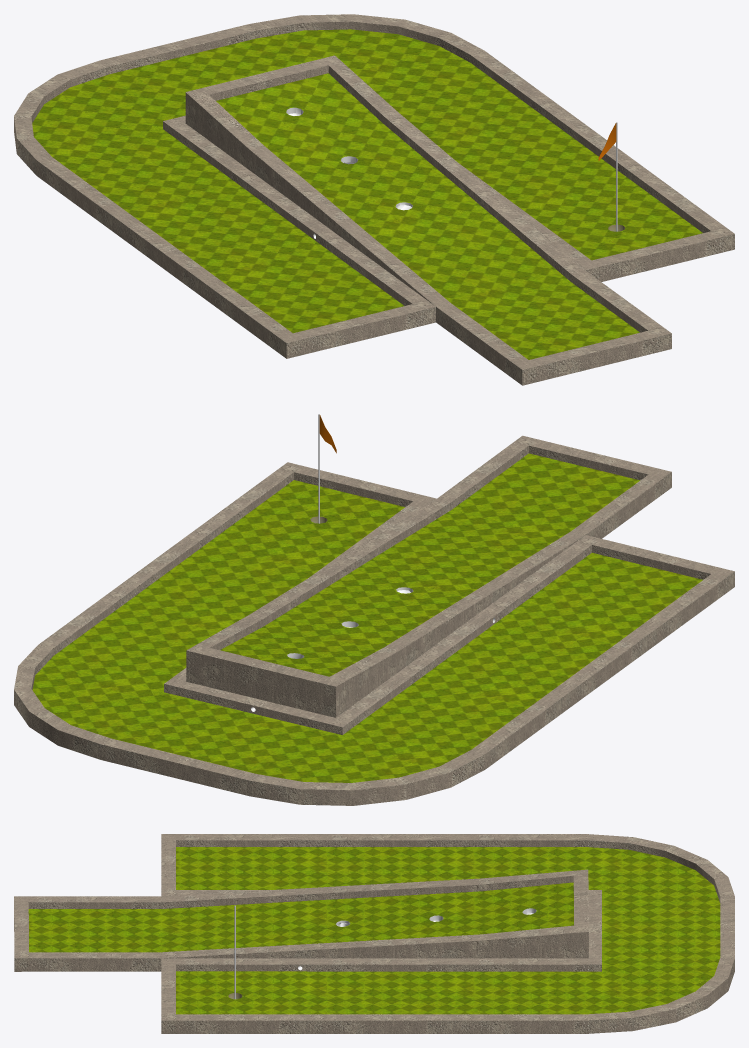
The model's file is course4_hole18.fbx.
The picture shows the model from 3 angles, top to bottom: view 1: azimuth 30°, elevation 25°; view 2: azimuth 150°, elevation 25°; view 3: azimuth 270°, elevation 25°; orthographic projection. The views are drawn at different scales.
Parts seen in each view (by area): view 1: course4_hole18_ground, course4_hole18_walls; view 2: course4_hole18_ground, course4_hole18_walls; view 3: course4_hole18_ground, course4_hole18_walls.
Part boxes in pixels (left/top/right/bottom): course4_hole18_ground: left=32, top=29, right=702, bottom=359; course4_hole18_walls: left=14, top=14, right=734, bottom=385; course4_hole18_ground: left=32, top=453, right=702, bottom=782; course4_hole18_walls: left=14, top=435, right=734, bottom=805; course4_hole18_ground: left=28, top=847, right=720, bottom=1014; course4_hole18_walls: left=14, top=834, right=734, bottom=1033.
Bounding box in the file's own units: 300 × 75.04 × 489.
